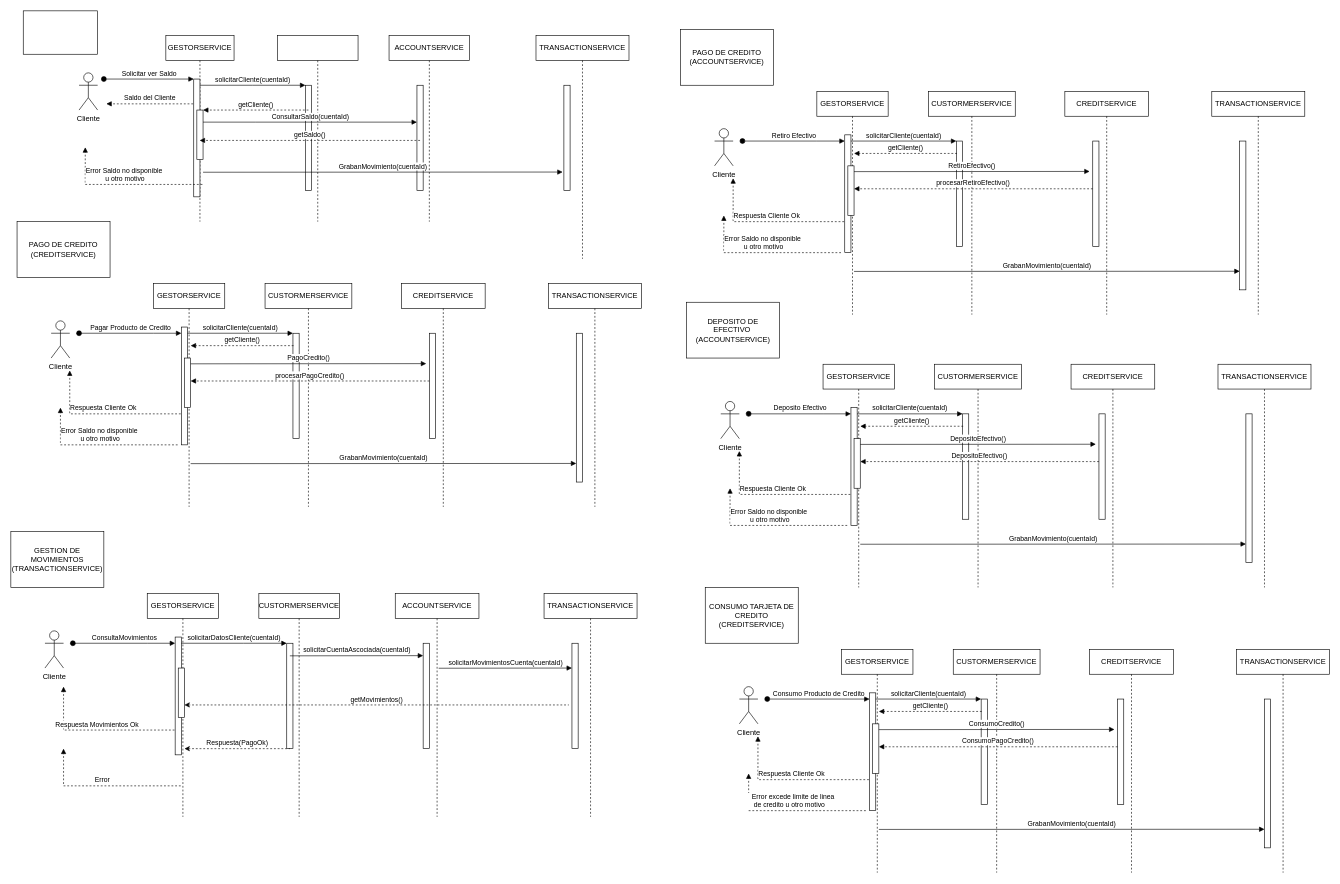
Some shapes in this 1340 by 884 pixel diagram are drawn without their labels. The centre of each missing label's shape, as x and y in pixels:
"CUSTOMERSERVICE" goes at pixel 317 128.
"GESTION DE CUENTAS BANCARIAS (ACCOUNTSERVICE)" goes at pixel 60 32.
